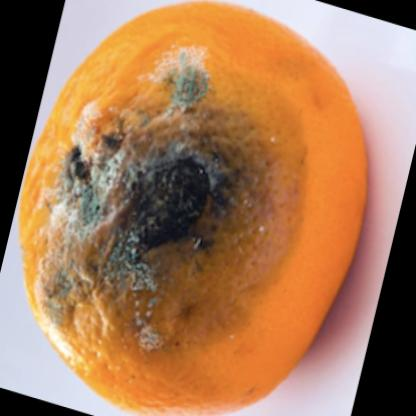rotten: (18, 1, 372, 416)
